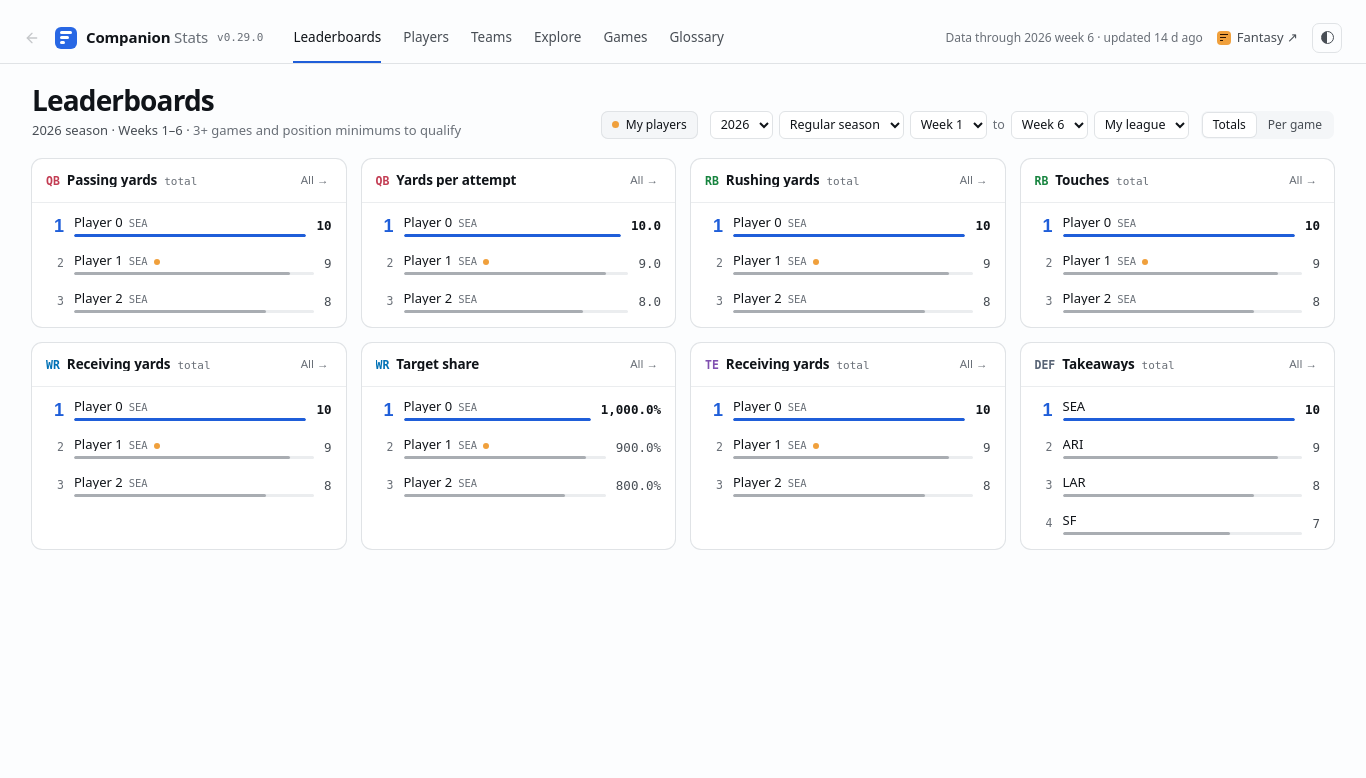
the team dashboard (spec §9.3) › opens Teams on my top scorer’s team: header, record, results, nine tabs
Click the button "Teams". click: (491, 38)
box: 471,12 -> 512,63
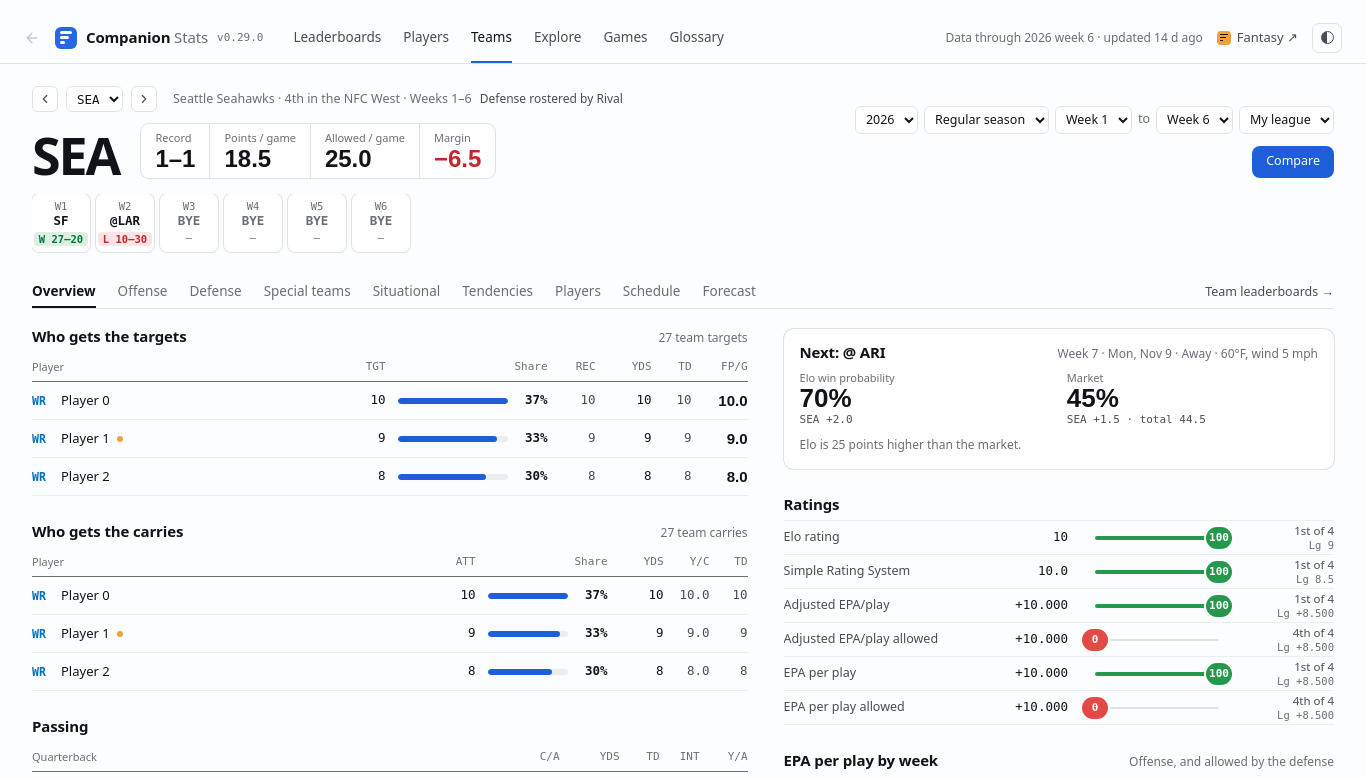
expect the heading "SEA" is shown: met, box 32,133 -> 119,178
expect the text "Seattle Seahawks · 4th in the NFC West · Weeks 1–6" is shown: met, box 173,91 -> 472,107
expect the text "Defense rostered by Rival" is shown: met, box 480,91 -> 623,107
